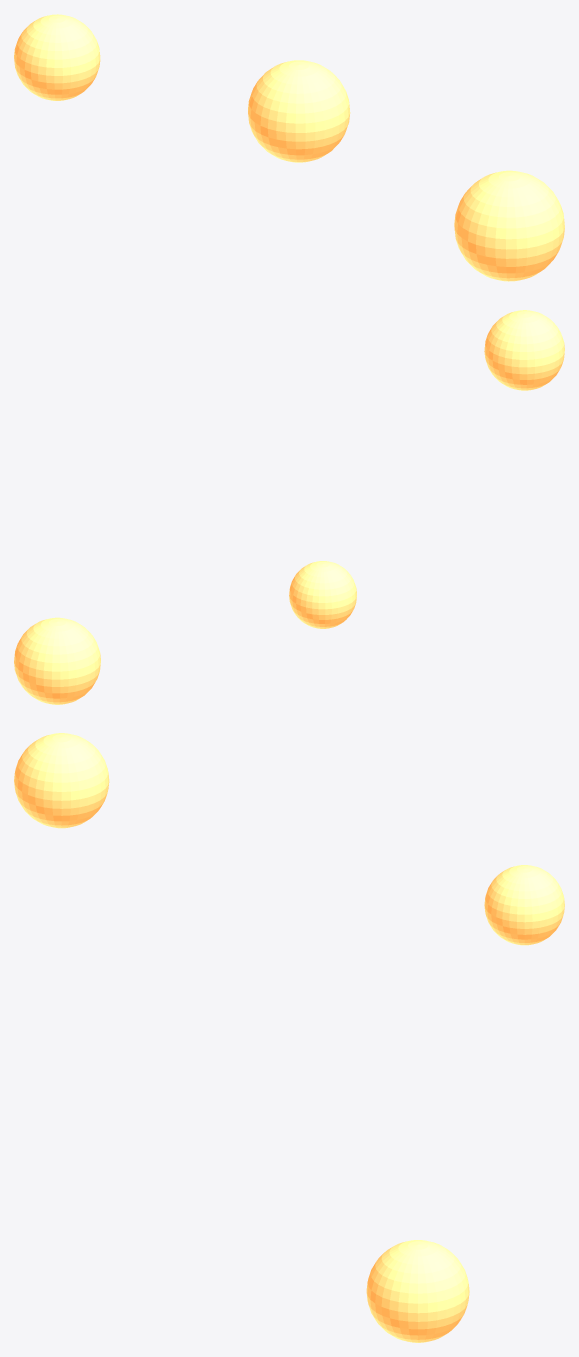
File: soleils.glb
The picture shows the model from 3 angles, top to bottom: view 1: azimuth 30°, elevation 25°; view 2: azimuth 150°, elevation 25°; view 3: azimuth 270°, elevation 25°; orthographic projection. The views are drawn at different scales.
Visible parts, largest first — view 1: Sphere; view 2: Sphere; view 3: Sphere.
Boxes of the visible parts, left/top/right/bottom form: Sphere: left=14, top=14, right=564, bottom=281; Sphere: left=14, top=310, right=564, bottom=704; Sphere: left=14, top=733, right=564, bottom=1342.
Size of the model in its own units: 79.47 by 69.05 by 82.45.
